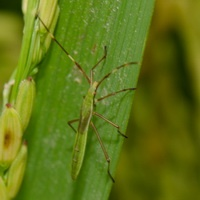insect: (31, 1, 148, 183)
